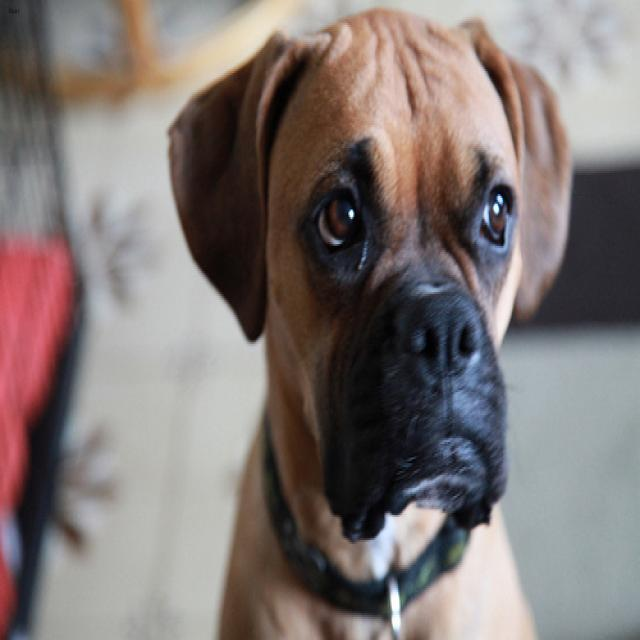dog-boxer: (156, 2, 582, 636)
